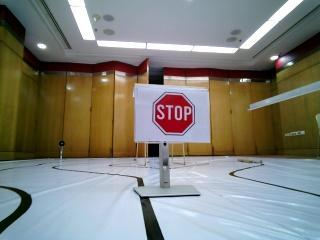stop: (136, 89, 208, 139)
